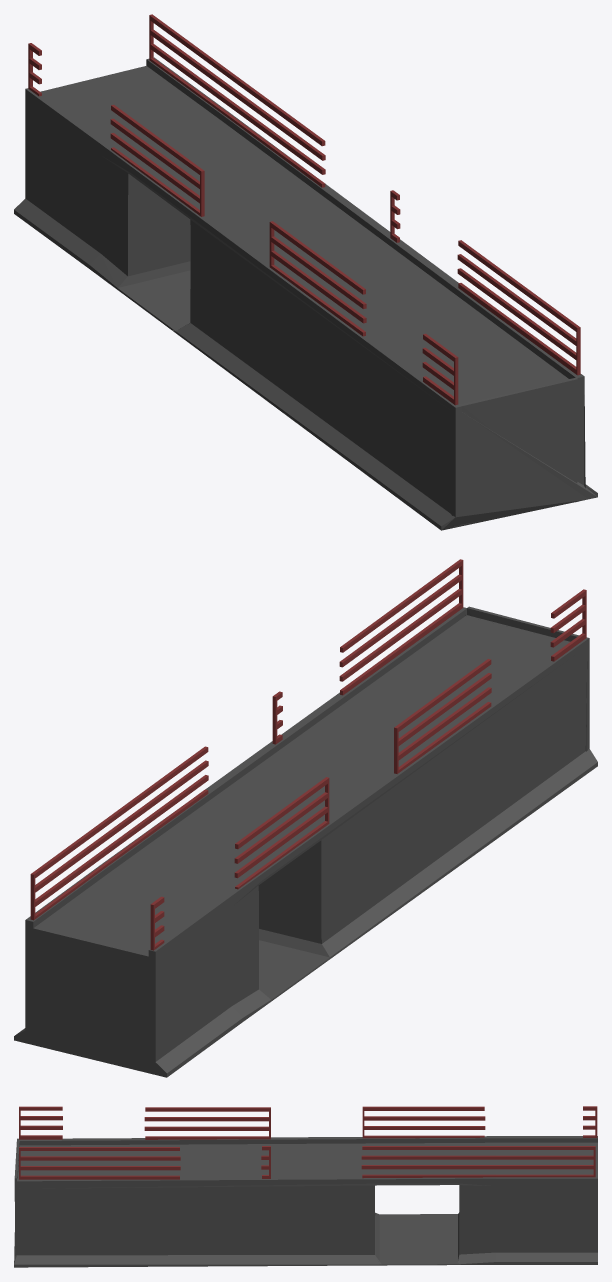
Rendered from Level4_Conveyor_Seperated.fbx.
3 renders of one model, top to bottom at view 1: azimuth 30°, elevation 25°; view 2: azimuth 150°, elevation 25°; view 3: azimuth 270°, elevation 25°, orthographic. The views are drawn at different scales.
Parts seen in each view (by area): view 1: polySurface199, polySurface195, polySurface191, polySurface193, polySurface194, polySurface190; view 2: polySurface199, polySurface195, polySurface191, polySurface193, polySurface194, polySurface190; view 3: polySurface199, polySurface195, polySurface191, polySurface193, polySurface194, polySurface190, polySurface196.
Boxes of the visible parts, x1,y1,x2,y2 form: polySurface199: (14, 57, 597, 530); polySurface195: (149, 14, 325, 187); polySurface191: (457, 240, 580, 375); polySurface193: (269, 221, 366, 336); polySurface194: (110, 104, 204, 216); polySurface190: (422, 333, 458, 405); polySurface199: (14, 606, 597, 1077); polySurface195: (30, 746, 208, 920); polySurface191: (339, 559, 463, 695); polySurface193: (394, 659, 491, 773); polySurface194: (234, 777, 329, 889); polySurface190: (550, 589, 586, 661); polySurface199: (14, 1136, 597, 1267); polySurface195: (361, 1146, 595, 1178); polySurface191: (19, 1147, 180, 1179); polySurface193: (144, 1107, 270, 1139); polySurface194: (362, 1106, 485, 1138); polySurface190: (19, 1106, 62, 1139); polySurface196: (583, 1106, 597, 1137).
Bounding box in the file's own units: 8.09 × 8.74 × 39.94.
